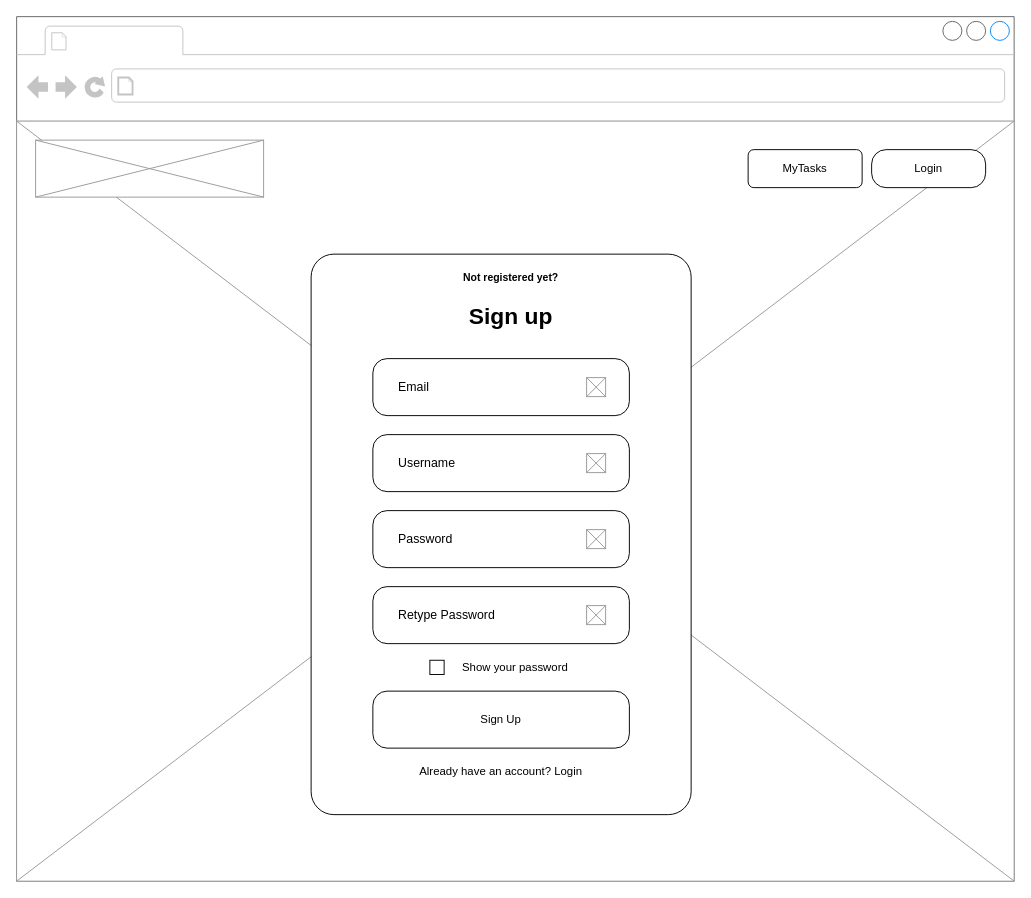
The diagram is 1031 pixels wide and 898 high, and some of its shapes have lost their labels. Here are the shapes that lost their labels. From the top down, the centre of each, then its label:
the point at 125,40: Page 1
the point at 258,85: https://www.default.com
